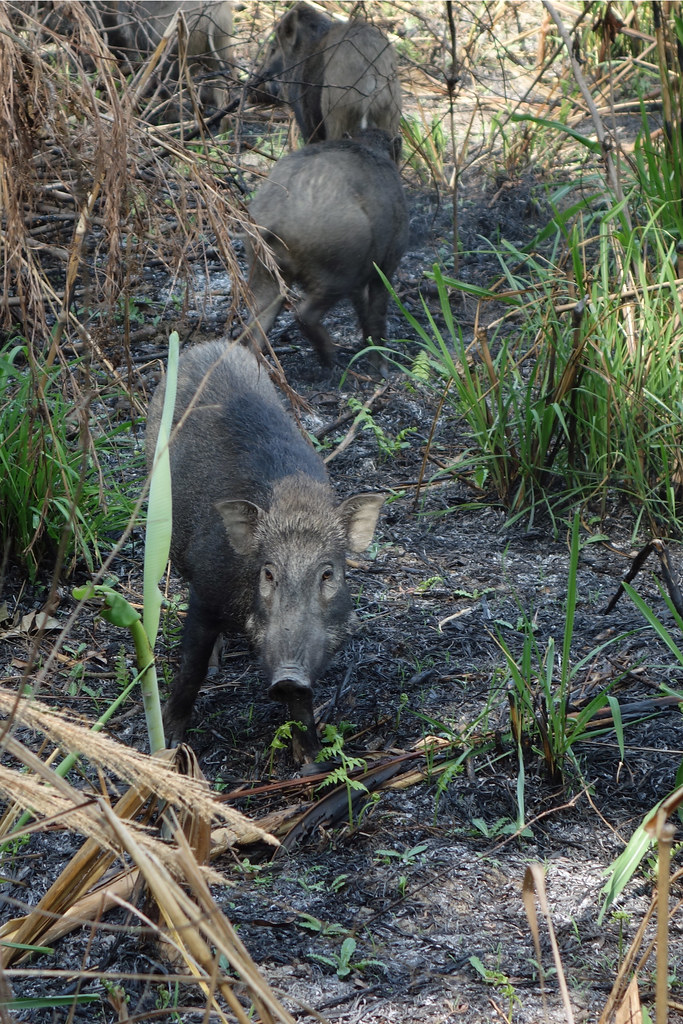wild boar: (118, 337, 397, 778), (212, 119, 454, 385), (230, 7, 437, 198)
